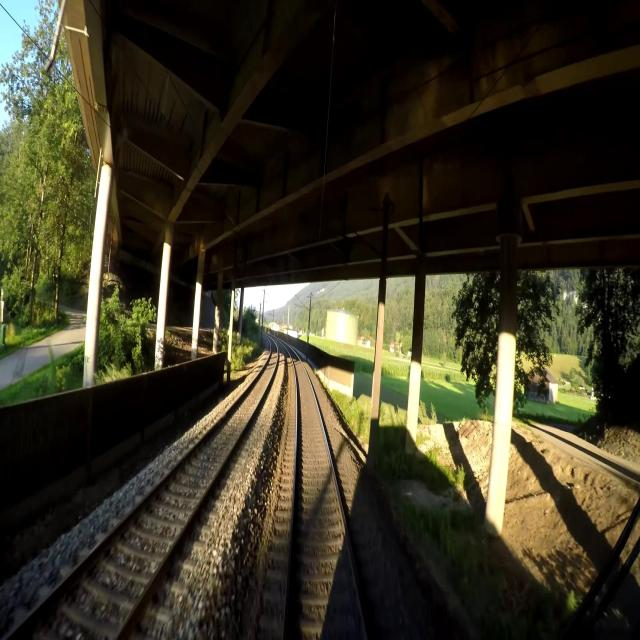rail-track: (8, 342, 276, 639), (284, 351, 365, 639)
